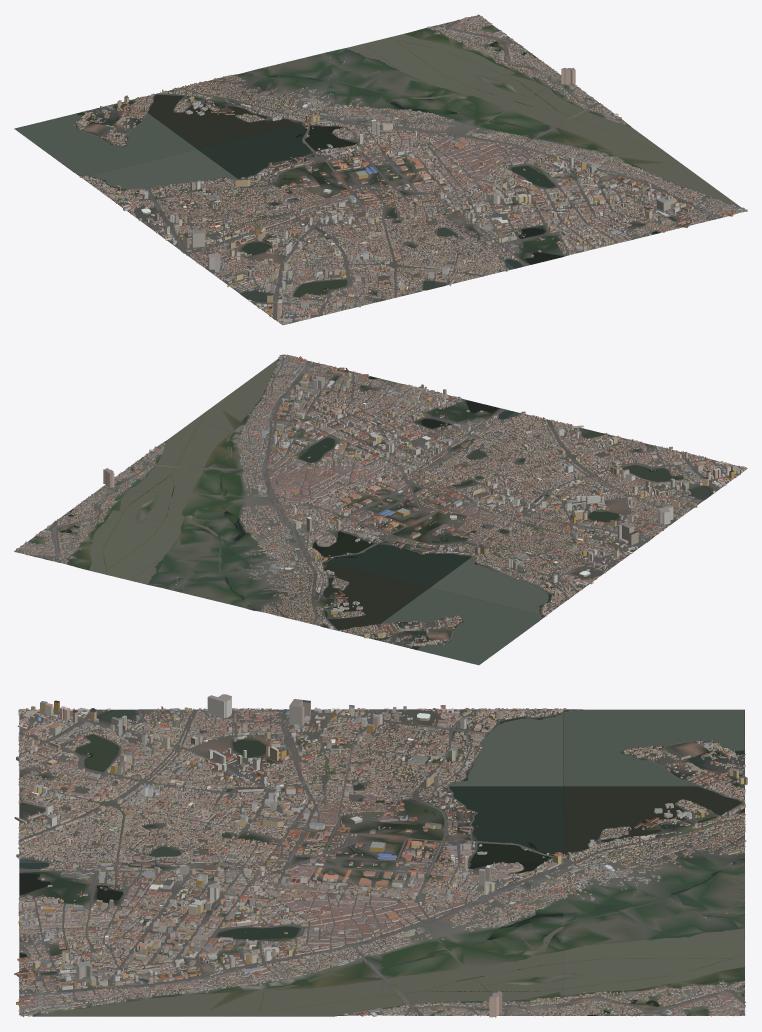
3 renders of one model, top to bottom at view 1: azimuth 30°, elevation 25°; view 2: azimuth 150°, elevation 25°; view 3: azimuth 270°, elevation 25°, orthographic. The views are drawn at different scales.
Visible parts, largest first — view 1: buildings, ground, water, roads; view 2: buildings, ground, water, roads; view 3: buildings, ground, water, roads.
Part boxes in pixels (box(x1,y1,x2,y2)): buildings: box(73, 14, 747, 324); ground: box(23, 15, 747, 324); water: box(14, 22, 741, 300); roads: box(74, 18, 746, 319); buildings: box(14, 354, 746, 647); ground: box(14, 354, 747, 663); water: box(45, 359, 710, 664); roads: box(30, 354, 740, 648); buildings: box(14, 694, 747, 1017); ground: box(19, 709, 744, 1016); water: box(19, 709, 744, 1016); roads: box(18, 709, 745, 1016).
Size of the model in its own units: 5659 by 171 by 5671.
